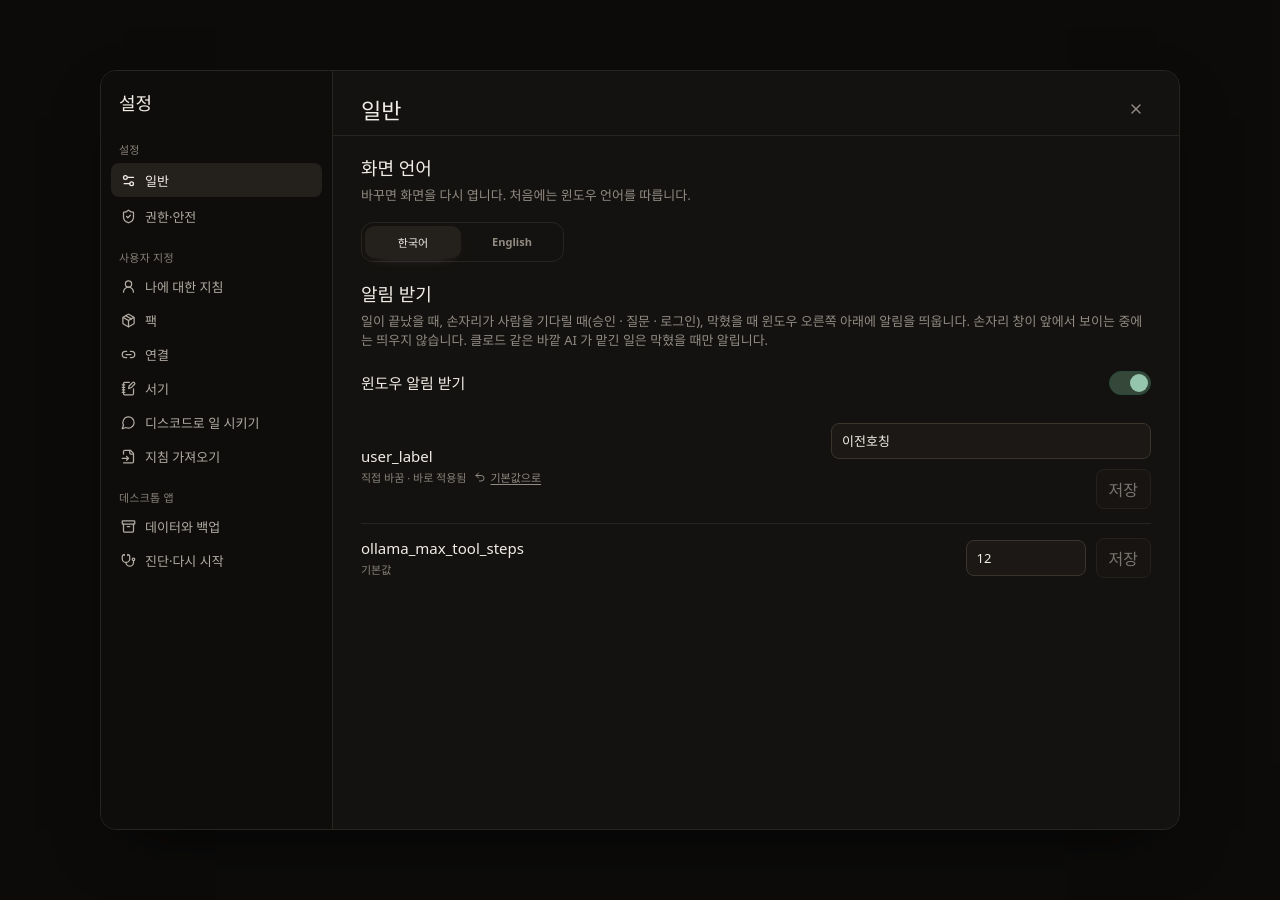
it: 기본값 복원 실패도 한국어로 해당 칸에서 알린다
Click the button "기본값으로": (508, 477) x1=474 y1=469 x2=541 y2=485
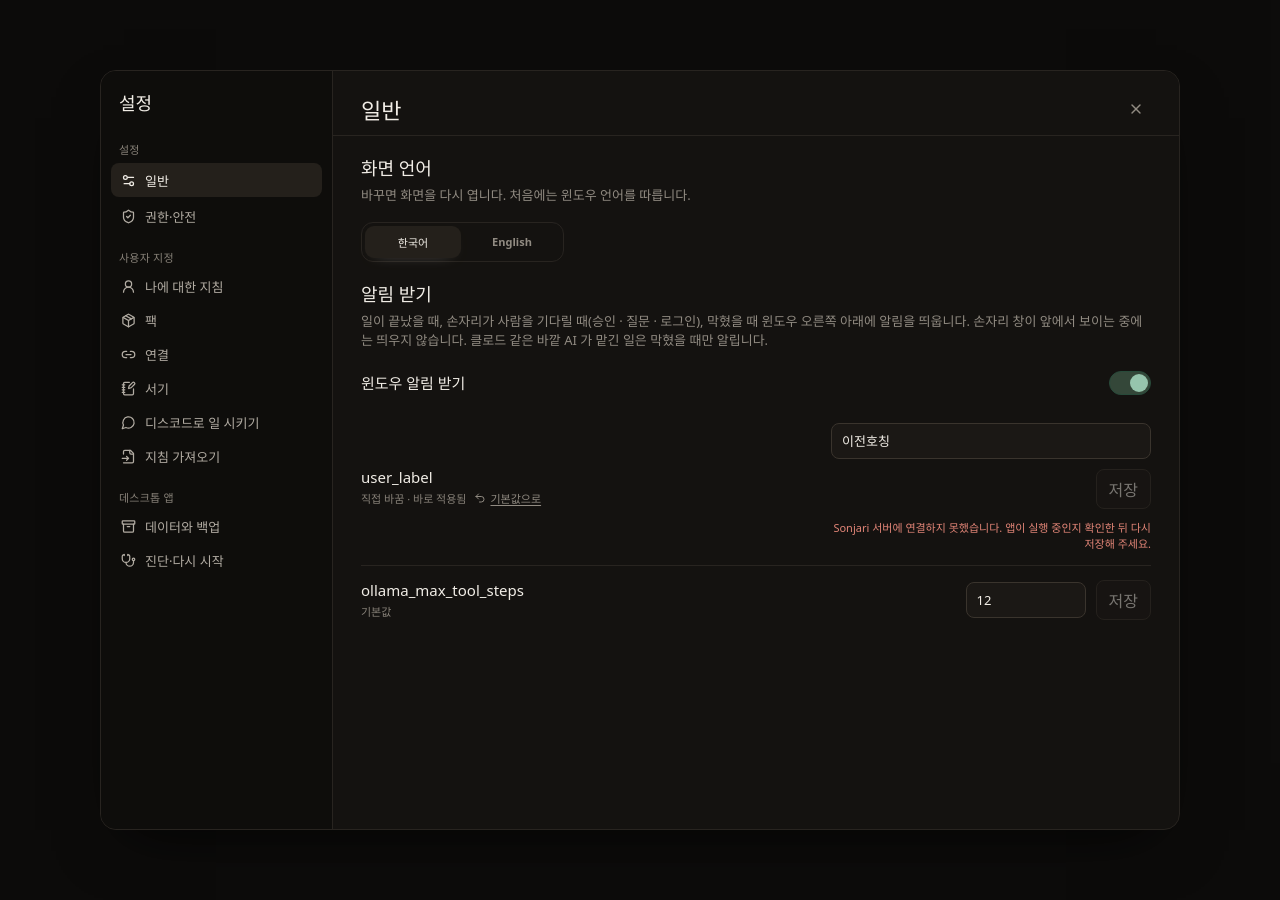
Check: the list item that starts with "user_label" shows "연결", box x1=361 y1=408 x2=1151 y2=564
